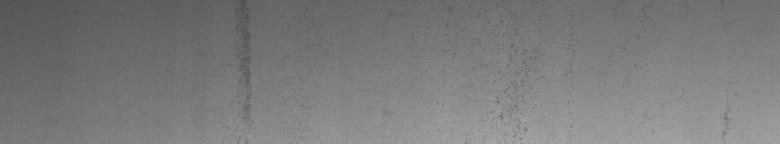ib: (486, 44, 528, 131)
